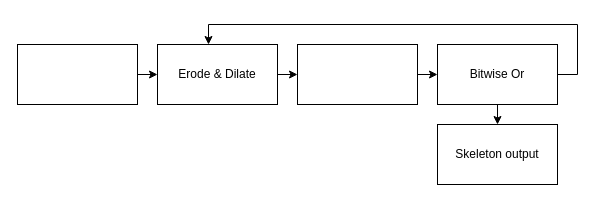
The diagram is 603 pixels wide and 202 high, and some of its shapes have lost their labels. The centre of each missing label's shape, as x and y in pixels:
Load Image (output): (77,74)
Subtract: (357,74)
